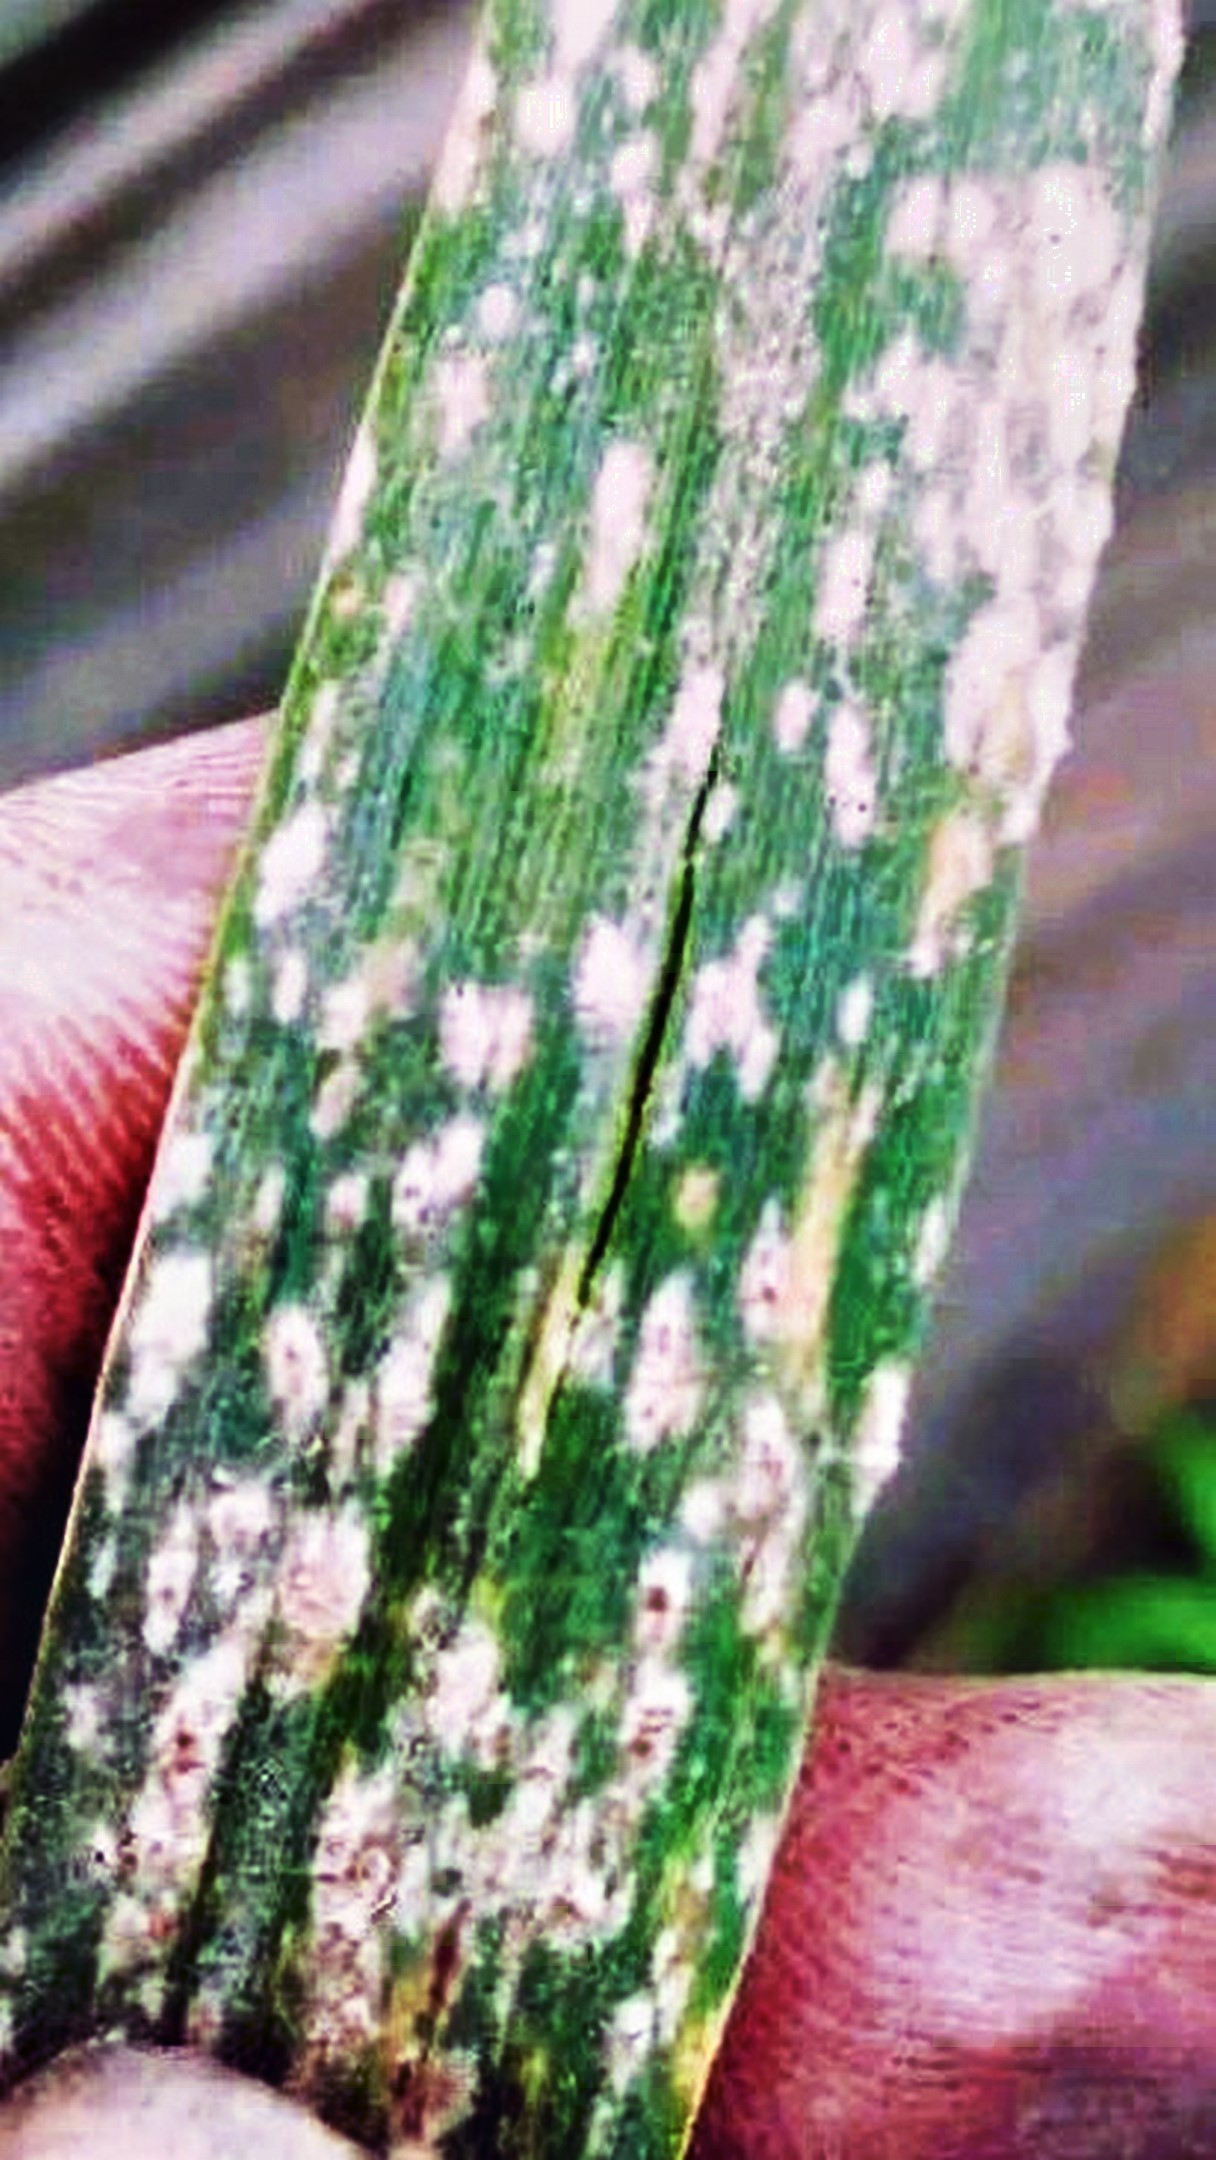Powdery Mildew: (70, 197, 1166, 2015)
